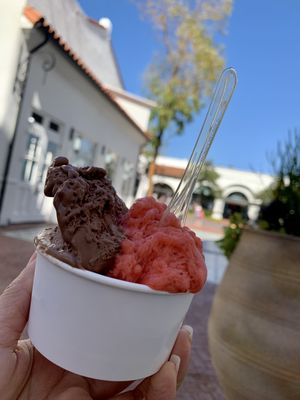sushi: (27, 247, 196, 381)
